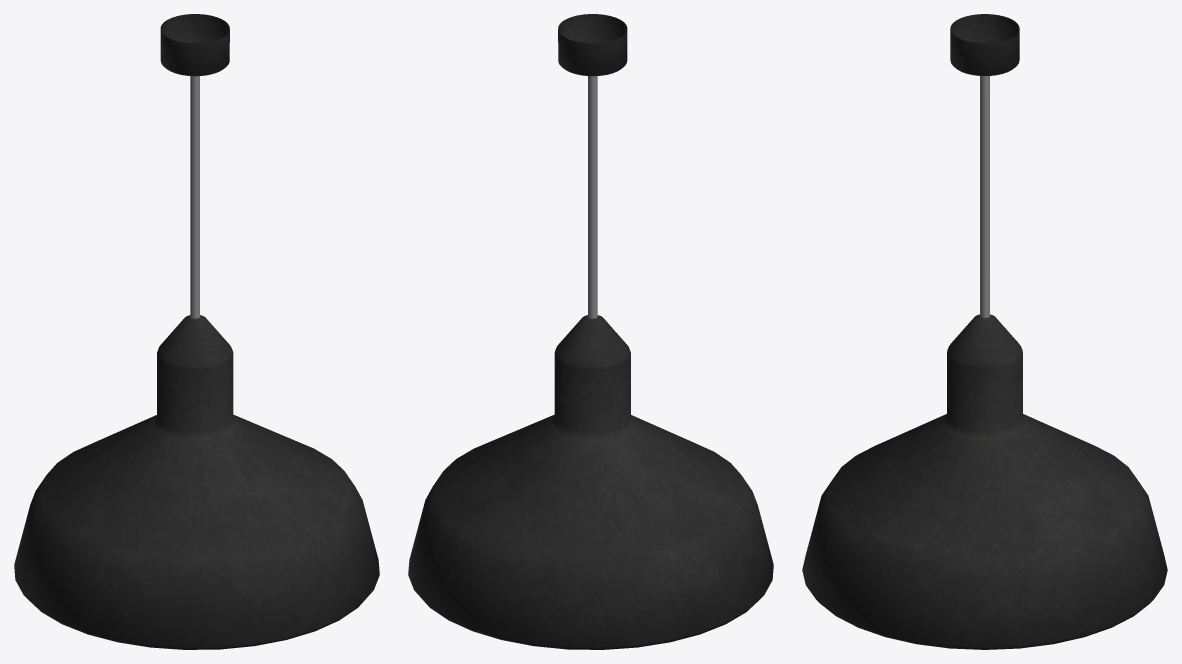
3 views of the same model, side by side, from view 1: azimuth 30°, elevation 25°; view 2: azimuth 150°, elevation 25°; view 3: azimuth 270°, elevation 25° (orthographic).
Visible parts, largest first — view 1: TF2_FS_Lamp; view 2: TF2_FS_Lamp; view 3: TF2_FS_Lamp.
Part boxes in pixels (<box>): TF2_FS_Lamp: <box>14,14,379,649</box>; TF2_FS_Lamp: <box>408,14,773,649</box>; TF2_FS_Lamp: <box>802,14,1167,649</box>.
Bounding box in the file's own units: 54.19 × 89.12 × 54.19.
Materials: 1 (1 with a texture image).
